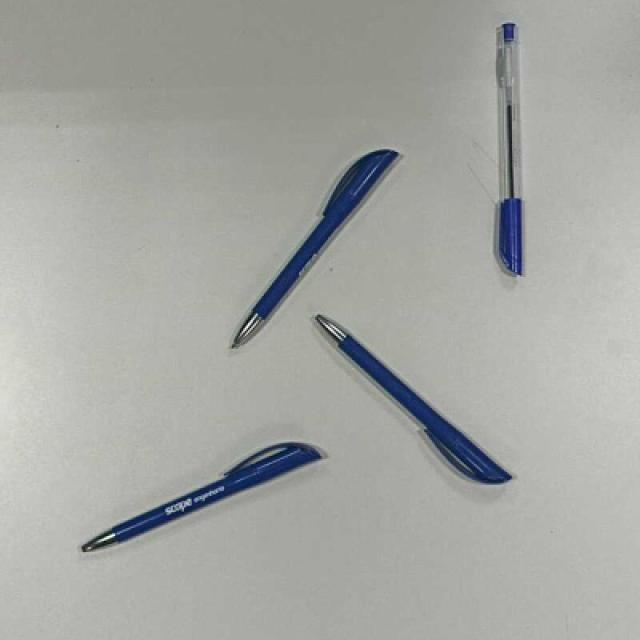caneta: (218, 135, 399, 355), (302, 313, 512, 500), (73, 429, 323, 558), (496, 22, 523, 276)
